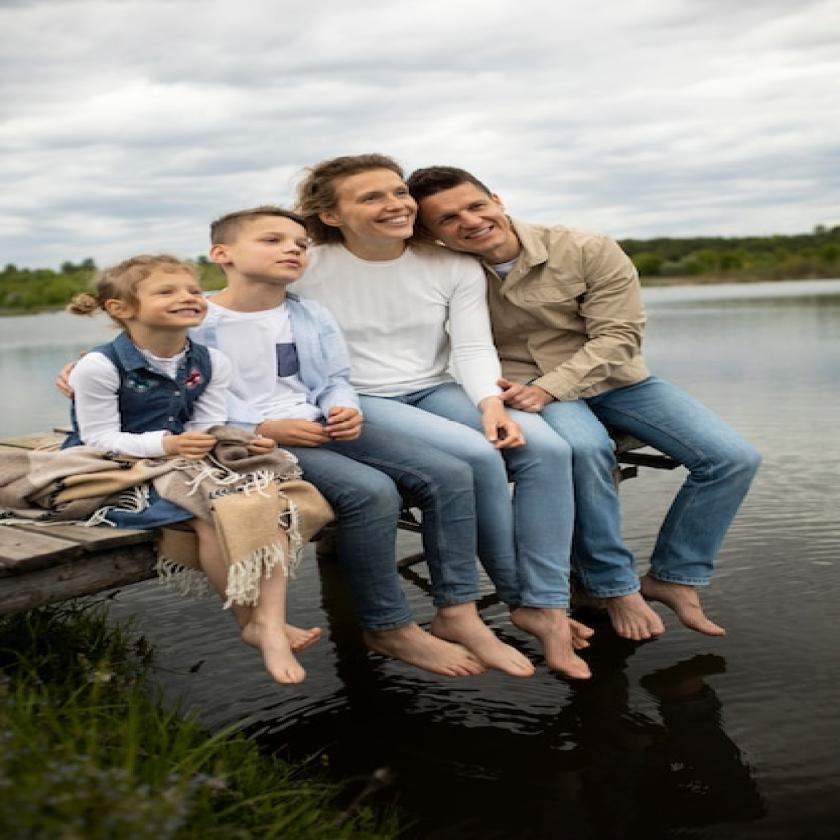Sin_casco: (91, 239, 209, 347), (406, 156, 536, 252), (212, 181, 310, 279), (318, 150, 411, 248)
